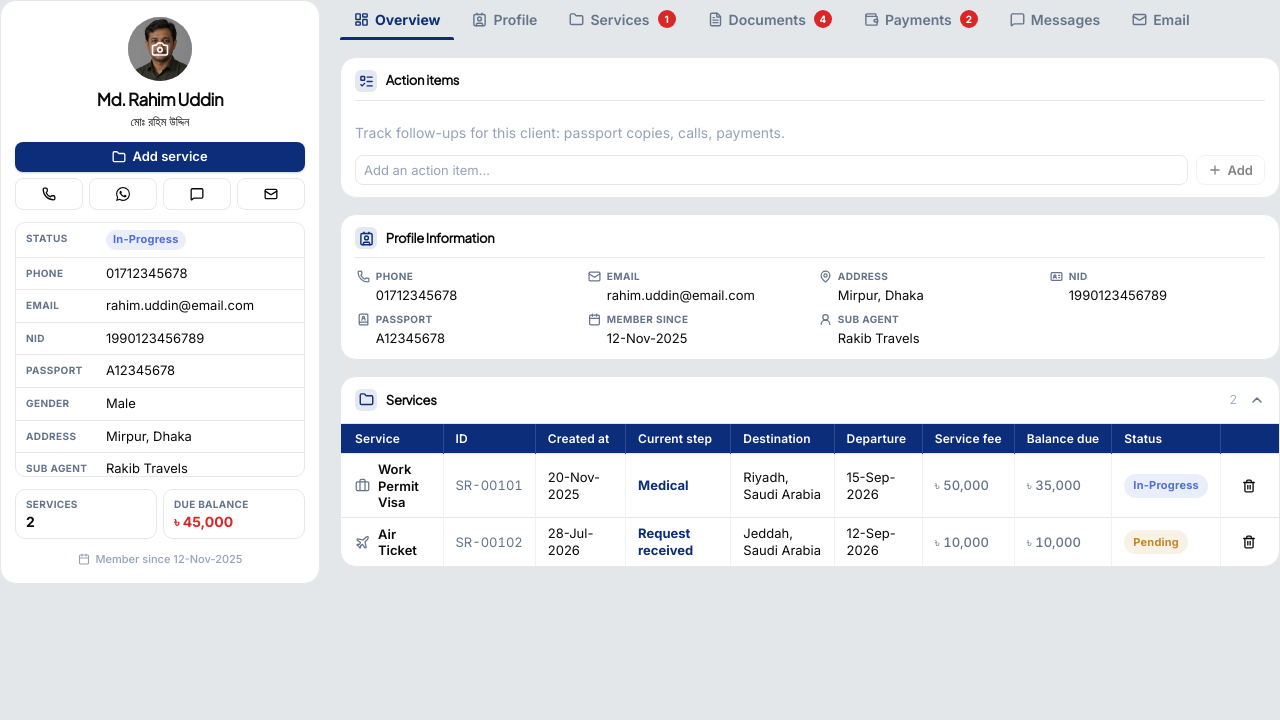
Test: client overview › opens add-service in a right panel
Click the button "Add service" at (160, 157), box top-left (15, 142), bottom-right (305, 172)
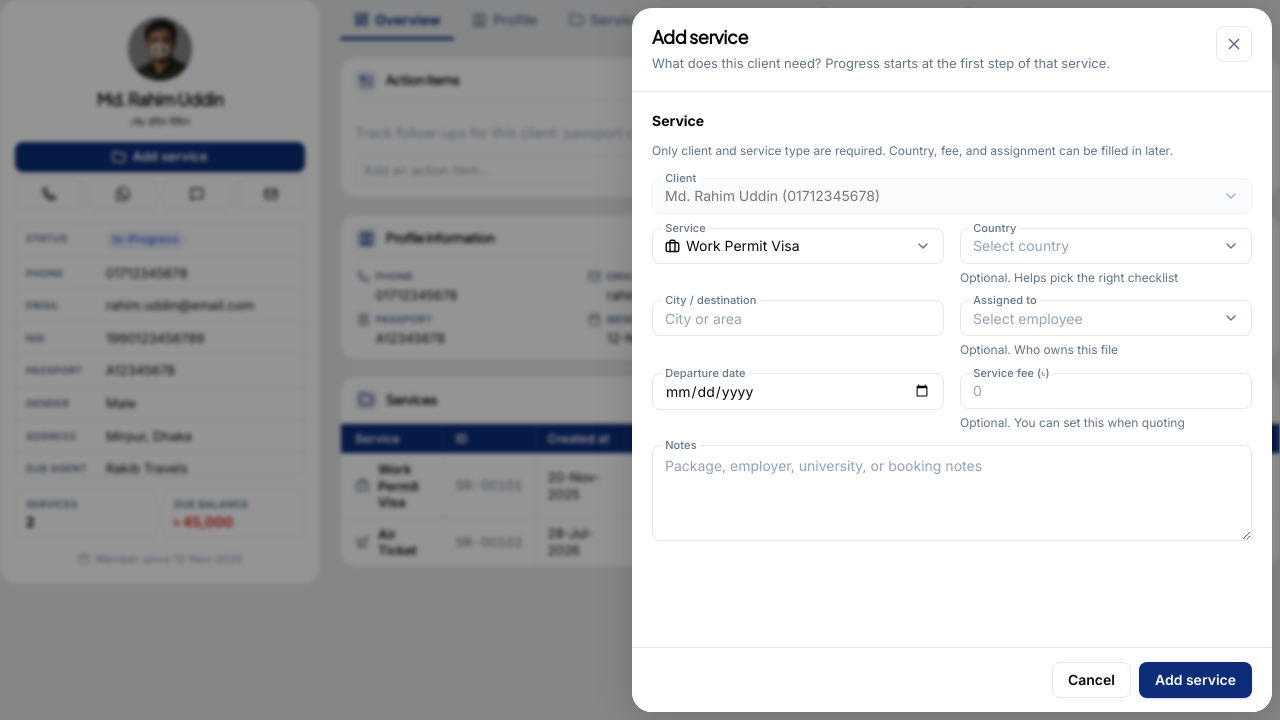
Check: the dialog "Add service" is shown, box top-left (632, 8), bottom-right (1272, 712)
Check: the button named "Service" is shown, box top-left (652, 228), bottom-right (944, 264)
Check: the button labelled "Select country" is shown, box top-left (960, 228), bottom-right (1252, 264)
